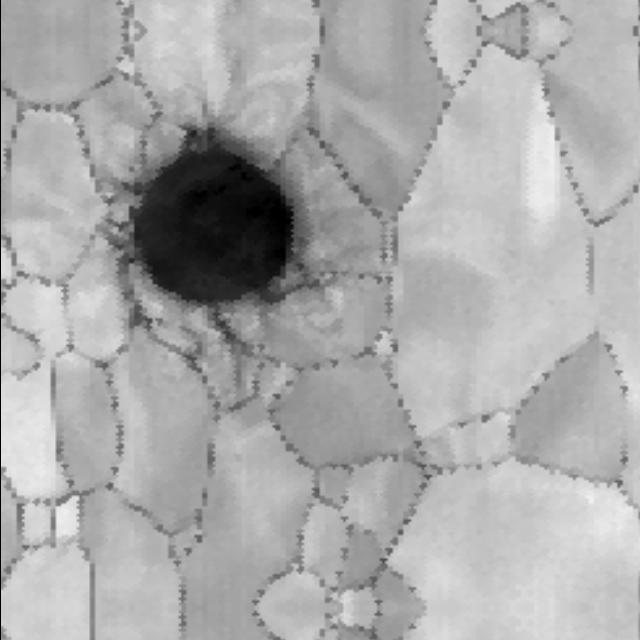good_void: (113, 132, 306, 352), (386, 338, 403, 363)
